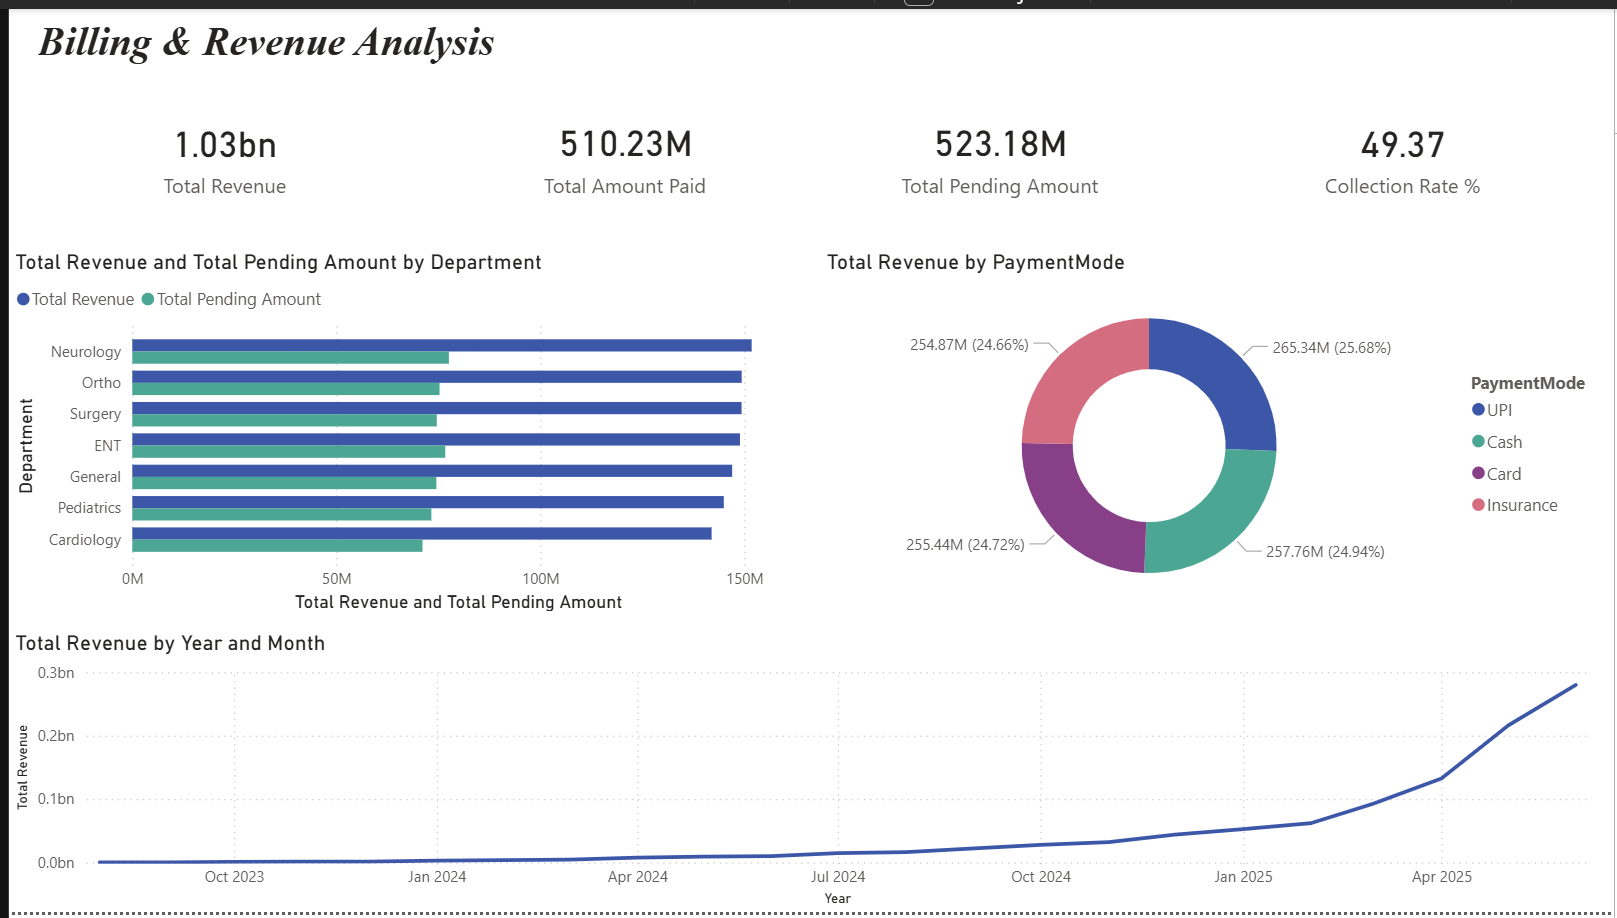

Layout of this report page (visuals, bound fields, positions):
{"tool":"powerbi","page":{"name":"Billing and revenue","canvas":[1280,720],"ordinal":3},"visuals":[{"type":"card","fields":{"Values":["_Measure.Total Revenue"]},"box":[0,40.6,343.6,150.9],"z":0},{"type":"card","fields":{"Values":["_Measure.Total Amount Paid"]},"box":[333.2,40.6,314.6,149.7],"z":2000},{"type":"card","fields":{"Values":["_Measure.Total Pending Amount"]},"box":[647.7,40.6,285.6,149.7],"z":3000},{"type":"card","fields":{"Values":["_Measure.Collection Rate %"]},"box":[969.3,40.6,284.4,150.9],"z":4000},{"type":"clusteredBarChart","fields":{"Category":["Doctor_Table.Department"],"Y":["_Measure.Total Revenue","_Measure.Total Pending Amount"]},"box":[0,191.5,639.6,293.7],"z":5000},{"type":"donutChart","fields":{"Y":["_Measure.Total Revenue"],"Category":["Billing_Table.PaymentMode"]},"box":[647.7,191.5,631.5,293.7],"z":6000},{"type":"lineChart","fields":{"Y":["_Measure.Total Revenue"],"Category":["Billing_Table.BillingDate.Variation.Date Hierarchy.Year","Billing_Table.BillingDate.Variation.Date Hierarchy.Month"]},"box":[0,495.7,1279.2,224],"z":7000},{"type":"textbox","box":[18.5,2.3,493.6,55.6],"z":7500}]}

Visuals, with their boxes in screenshot pixels (x1, y1, x2, y2), scaled from the page's 1280x720 canvas onto the 1617x918 screenshot:
card - _Measure.Total Revenue: l=0, t=52, r=434, b=244
card - _Measure.Total Amount Paid: l=421, t=52, r=818, b=243
card - _Measure.Total Pending Amount: l=818, t=52, r=1179, b=243
card - _Measure.Collection Rate %: l=1224, t=52, r=1584, b=244
clusteredBarChart - Doctor_Table.Department x _Measure.Total Revenue: l=0, t=244, r=808, b=619
donutChart - _Measure.Total Revenue x Billing_Table.PaymentMode: l=818, t=244, r=1616, b=619
lineChart - _Measure.Total Revenue x Billing_Table.BillingDate.Variation.Date Hierarchy.Year: l=0, t=632, r=1616, b=917
textbox: l=23, t=3, r=647, b=74
